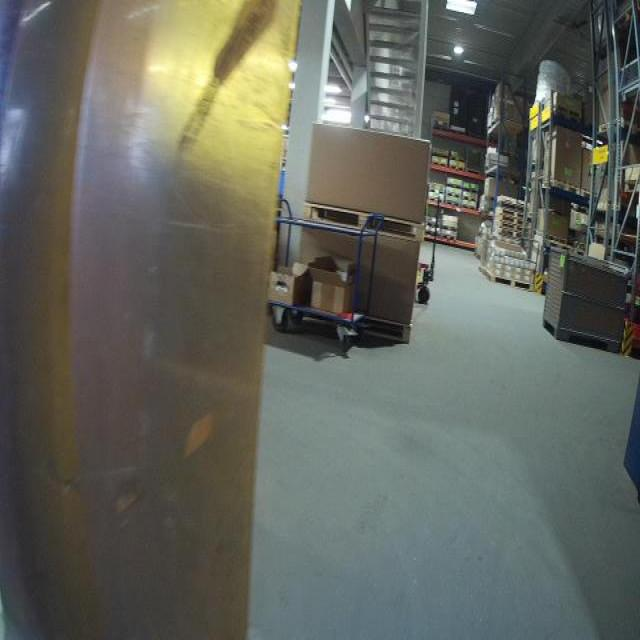pallet: (302, 199, 426, 244), (364, 315, 410, 346), (483, 267, 531, 291), (534, 234, 571, 256), (542, 178, 582, 195), (552, 108, 582, 125), (554, 102, 582, 119), (496, 221, 526, 232), (496, 227, 524, 237), (496, 204, 529, 211), (495, 210, 526, 216), (496, 214, 525, 220), (450, 128, 466, 137), (446, 182, 462, 191), (462, 186, 478, 195), (432, 125, 449, 133), (432, 151, 449, 159), (449, 155, 466, 163), (445, 199, 460, 208), (462, 195, 478, 203), (441, 224, 457, 232), (446, 191, 461, 199), (429, 187, 444, 195), (448, 165, 465, 172), (432, 161, 448, 168), (428, 197, 444, 204), (426, 221, 440, 229), (439, 234, 457, 240), (462, 204, 476, 211), (426, 231, 438, 236)
pallet_truck: (414, 190, 449, 304)
stillage: (537, 238, 631, 349)
